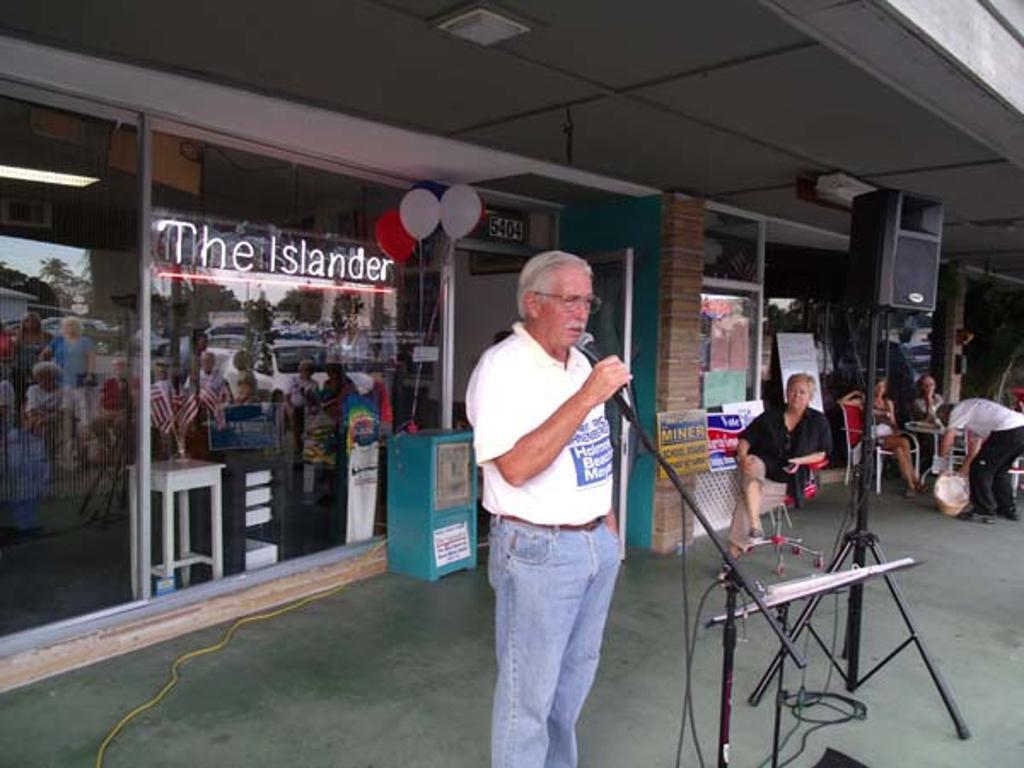face: (543, 276, 593, 345), (789, 380, 807, 410), (38, 371, 52, 390), (23, 315, 37, 331), (64, 320, 77, 337), (110, 360, 123, 376), (327, 366, 340, 381), (201, 355, 212, 371), (299, 362, 311, 376), (158, 360, 169, 375), (923, 381, 935, 394), (874, 383, 885, 397)
